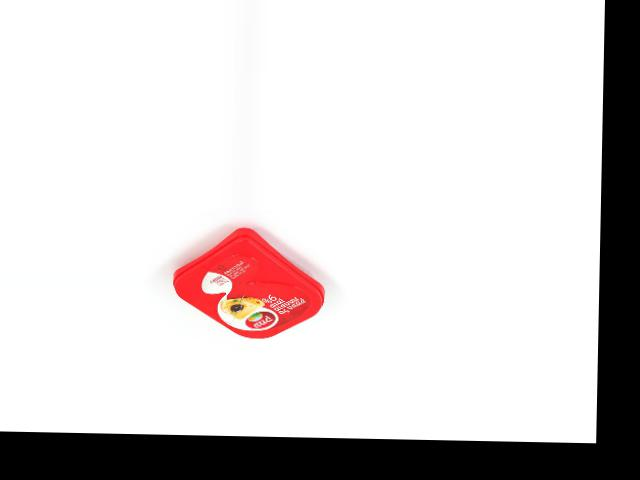cheese: (171, 225, 326, 340)
